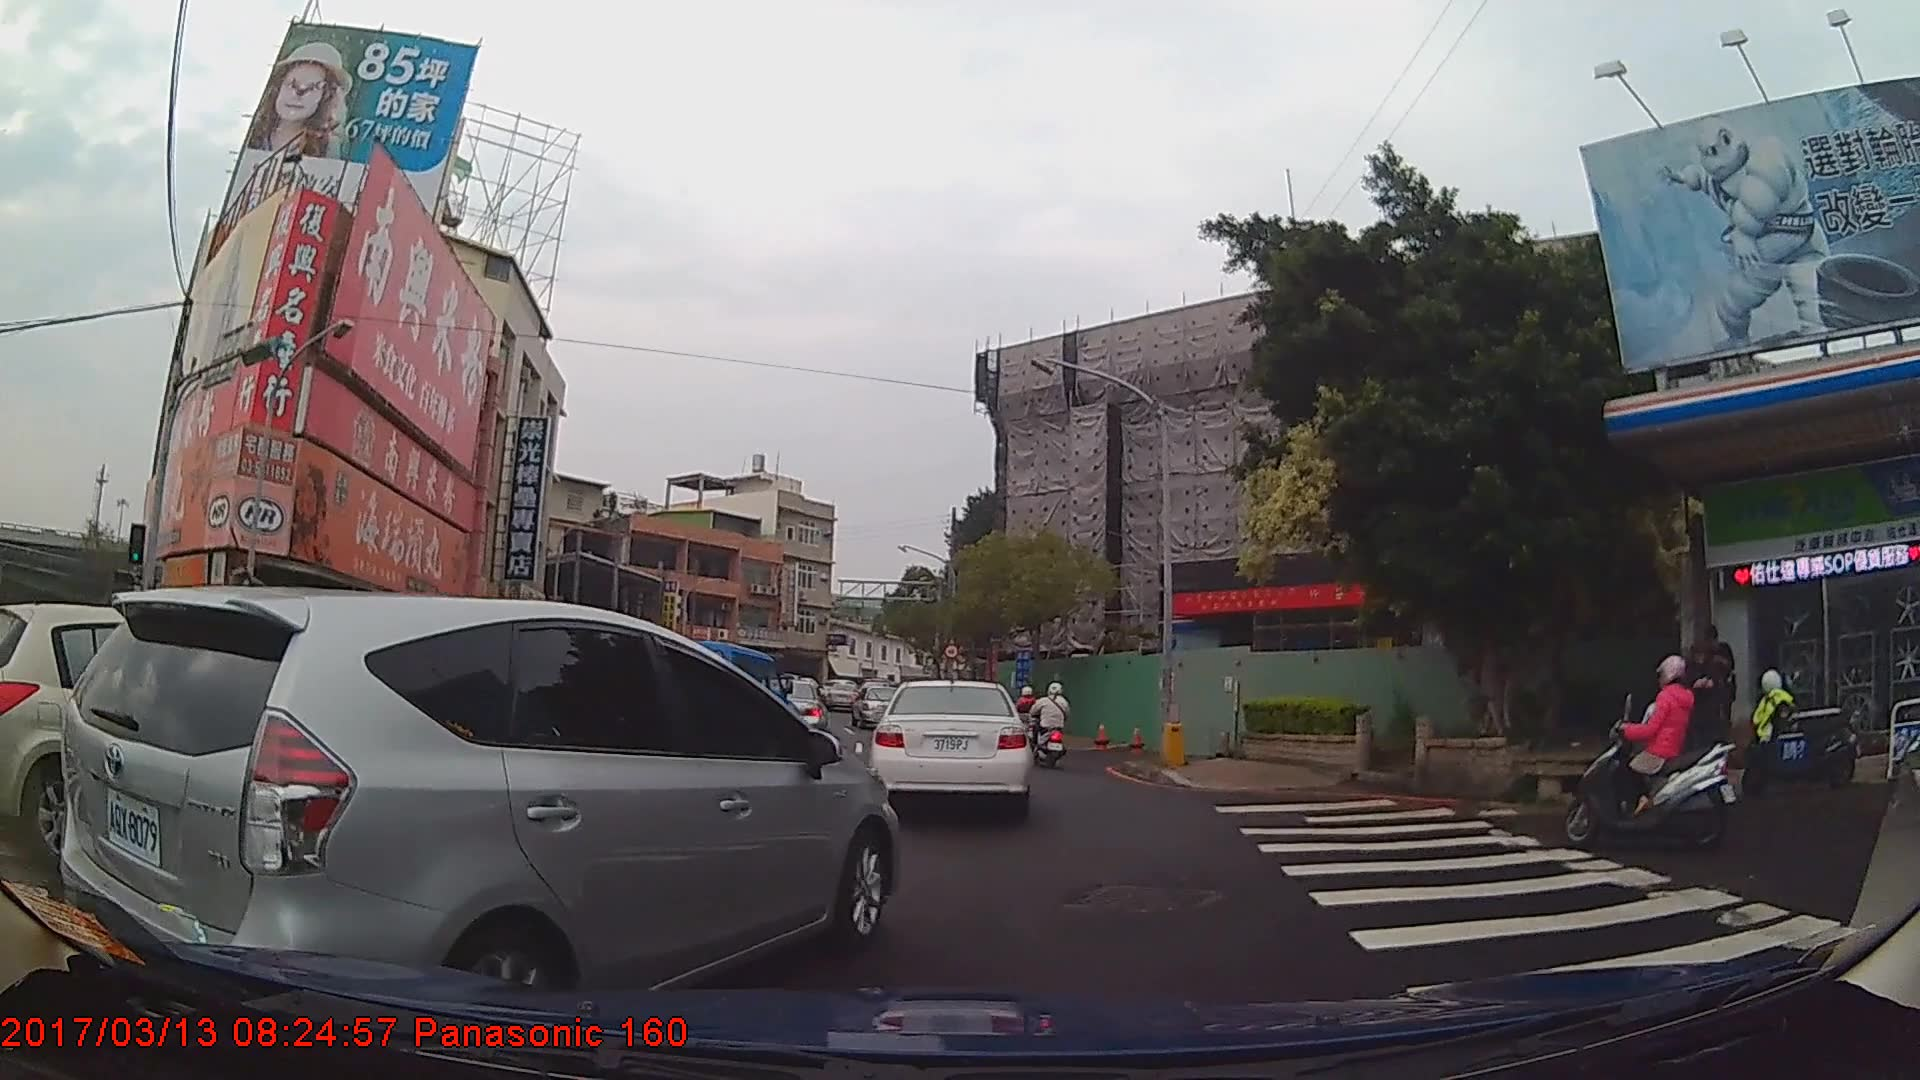pedestrian: (1684, 634, 1740, 810), (1695, 621, 1744, 748)
rider: (1555, 655, 1737, 848), (1037, 680, 1071, 766)
vehicle: (56, 581, 907, 1033), (0, 598, 427, 870), (869, 678, 1035, 821)
